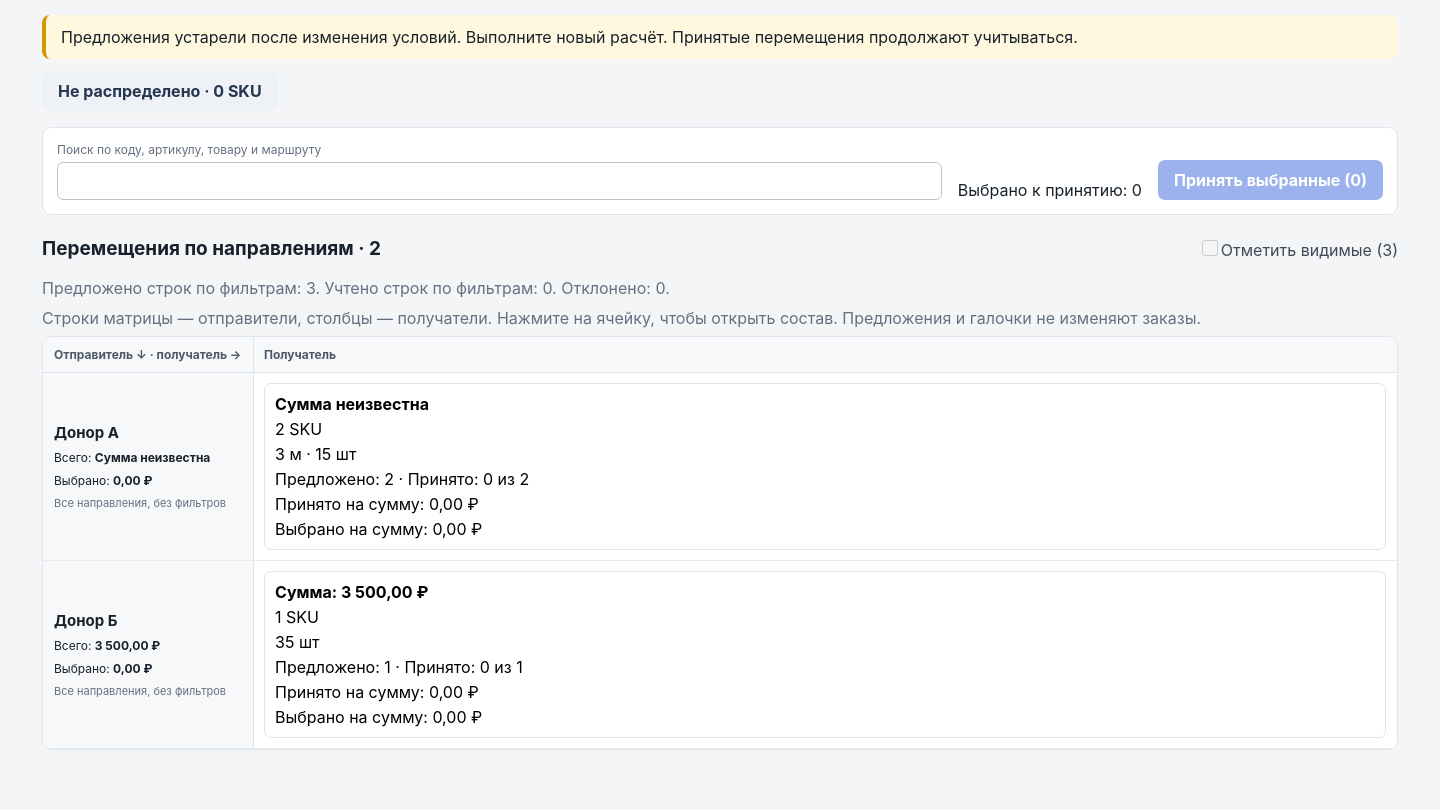
Test: allows inspecting an outdated proposal but disables selecting and accepting its positions
(page scrolled)
Click the button with aria-label "Открыть перемещение Донор А → Получатель": [825, 466] box [264,383,1386,550]
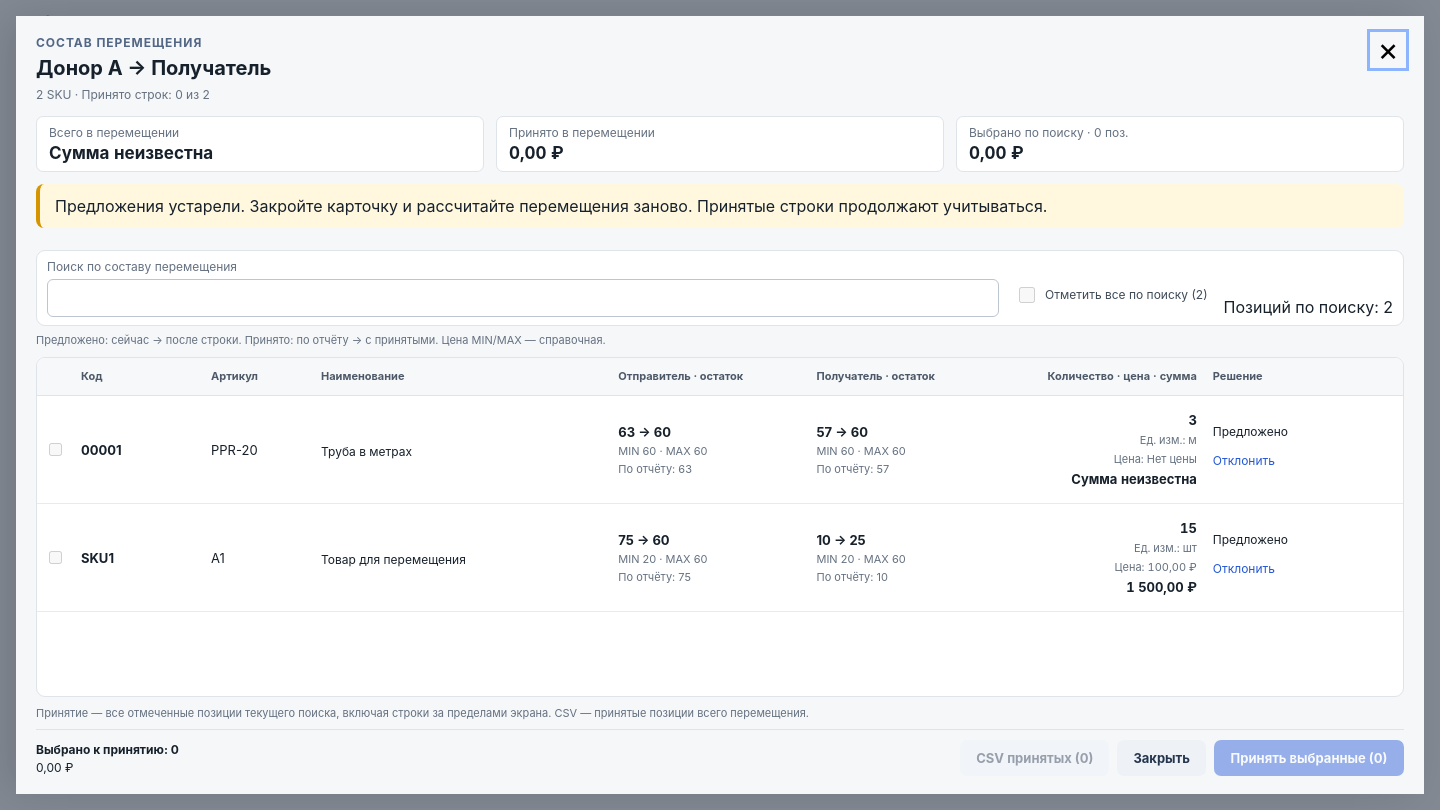
Now the dialog "Состав перемещения" shows "Предложения устарели", box [55,196,1047,216]
Now the checkbox labelled "Отметить все по поиску (2)" is disabled, box [1019,286,1035,302]
Now the checkbox named "Выбрать перемещение 00001 Донор А → Получатель" is disabled, box [49,443,62,456]
